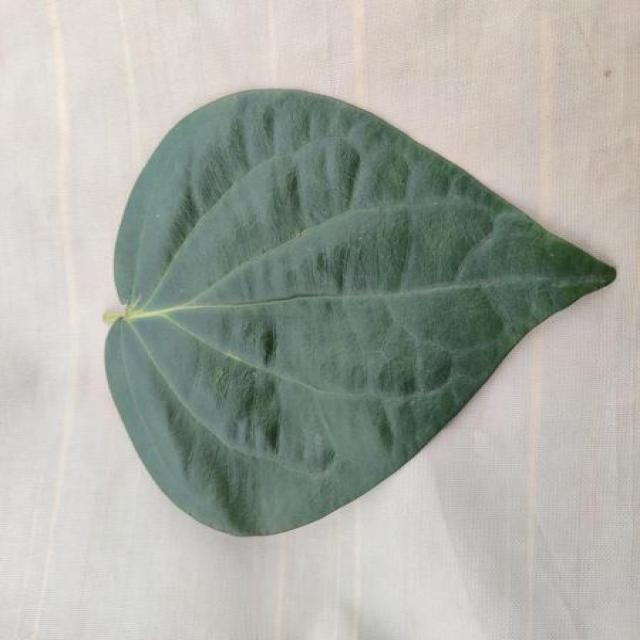betel: (105, 90, 615, 536)
